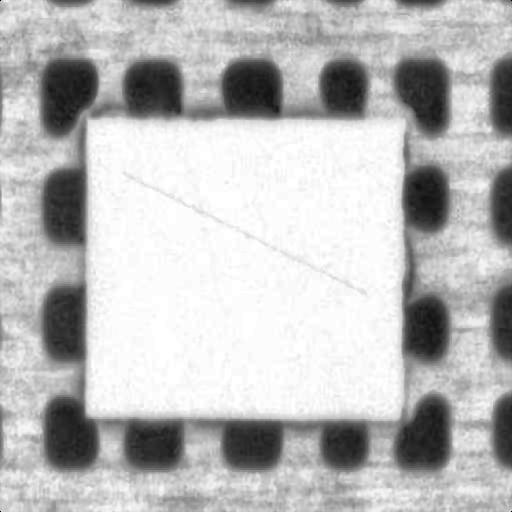DIE_CRACK: (162, 129, 485, 220)
